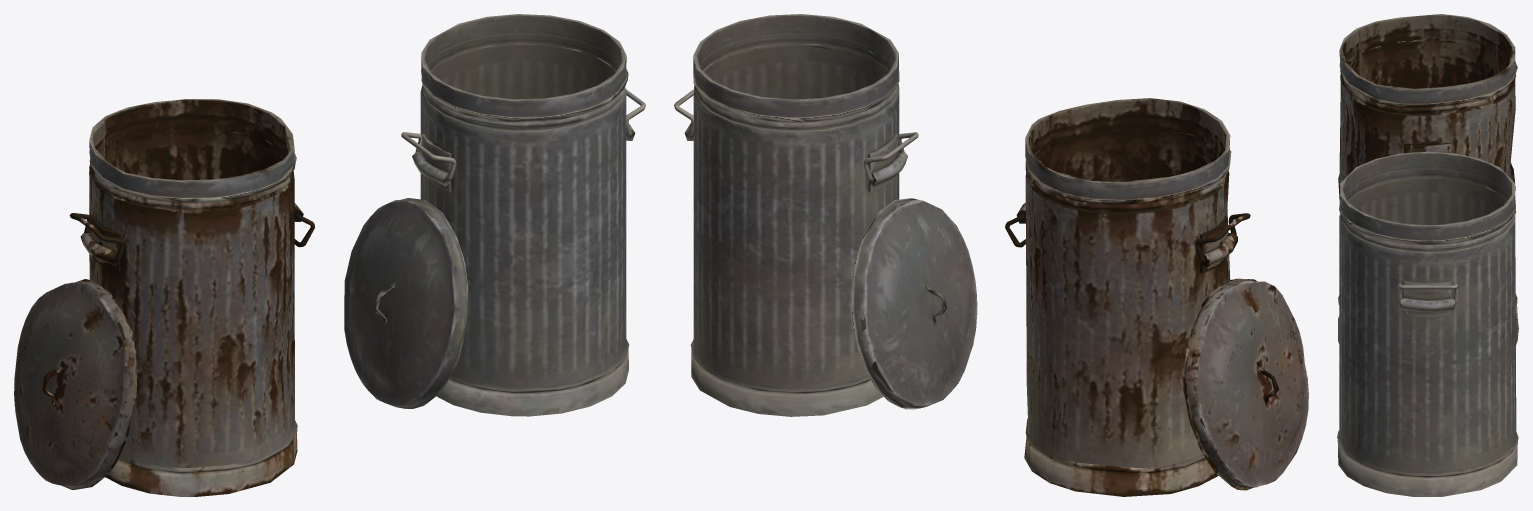
File: trashCan.glb
The picture shows the model from 3 angles, left to right: view 1: azimuth 30°, elevation 25°; view 2: azimuth 150°, elevation 25°; view 3: azimuth 270°, elevation 25°; orthographic projection. The views are drawn at different scales.
Visible parts, largest first — view 1: metal_trash_can, metal_trash_can_rust, metal_trash_can_lid, metal_trash_can_rust_lid; view 2: metal_trash_can, metal_trash_can_rust, metal_trash_can_lid, metal_trash_can_rust_lid; view 3: metal_trash_can, metal_trash_can_rust, metal_trash_can_handle_right.
Part boxes in pixels (<box>): metal_trash_can: <box>412,14,635,416</box>; metal_trash_can_rust: <box>80,99,303,496</box>; metal_trash_can_lid: <box>344,198,468,408</box>; metal_trash_can_rust_lid: <box>14,279,137,489</box>; metal_trash_can: <box>684,14,907,416</box>; metal_trash_can_rust: <box>1016,98,1237,496</box>; metal_trash_can_lid: <box>851,198,977,409</box>; metal_trash_can_rust_lid: <box>1183,278,1308,490</box>; metal_trash_can: <box>1337,151,1518,496</box>; metal_trash_can_rust: <box>1338,14,1517,319</box>; metal_trash_can_handle_right: <box>1397,283,1458,303</box>.
Size of the model in its own units: 1.78 by 0.9062 by 0.5533.
2 materials, 2 textured.
